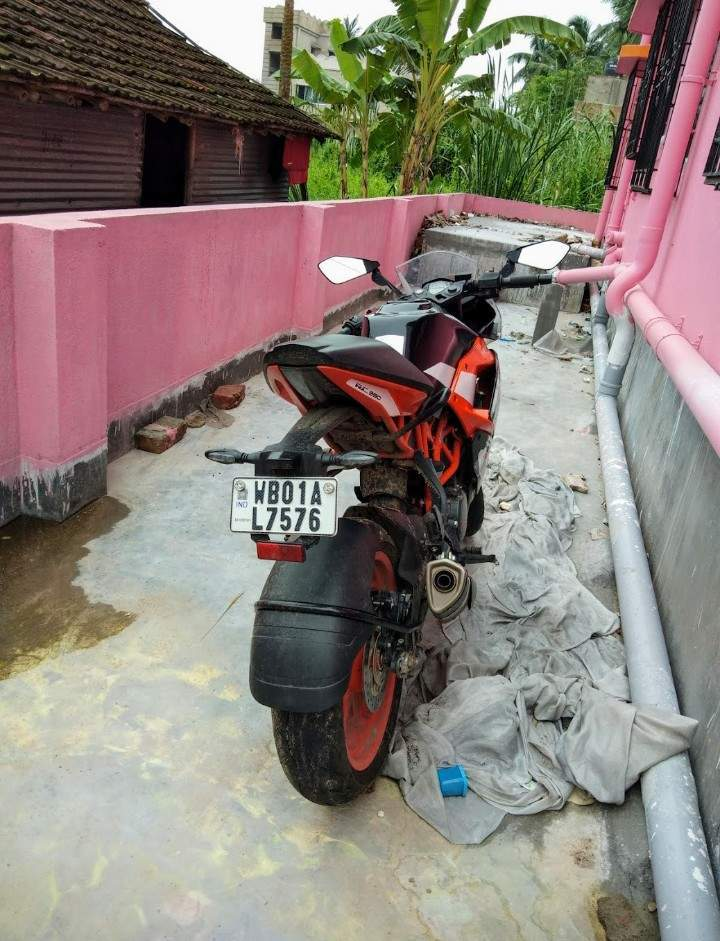doublelinenumberplate: (228, 471, 335, 538)
